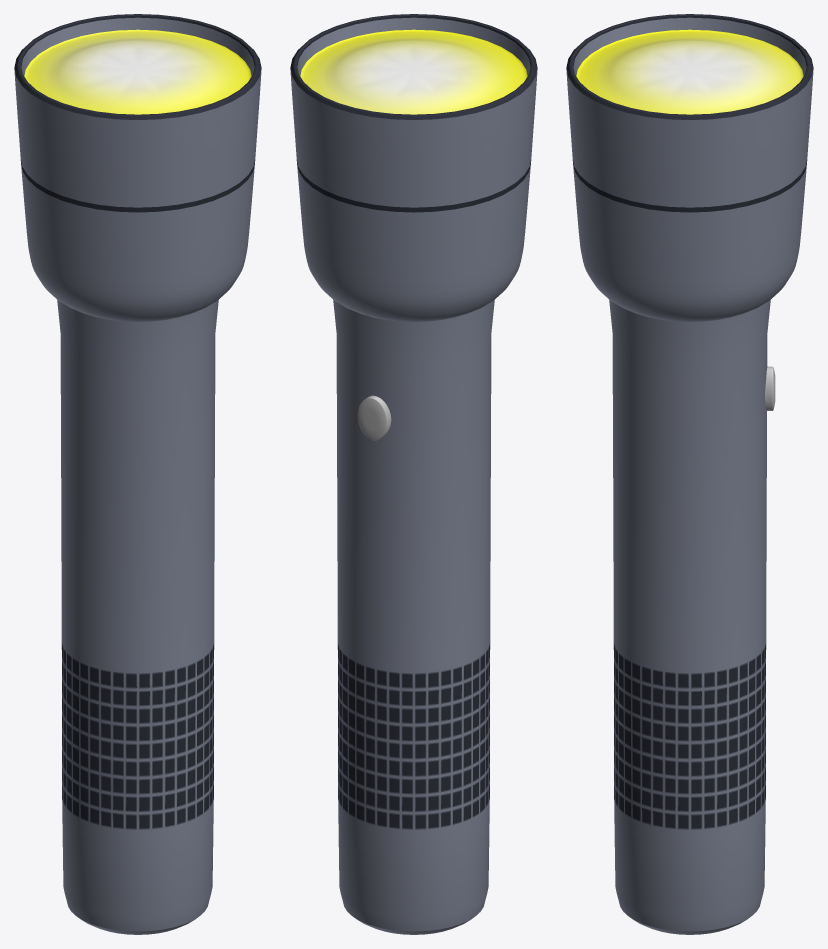
The model's file is Sdt.gltf.
3 renders of one model, left to right at view 1: azimuth 30°, elevation 25°; view 2: azimuth 150°, elevation 25°; view 3: azimuth 270°, elevation 25°, orthographic.
Visible parts, largest first — view 1: Cylinder005; view 2: Cylinder005; view 3: Cylinder005.
Boxes of the visible parts, x1=… form: Cylinder005: x1=14, y1=14, x2=261, y2=934; Cylinder005: x1=290, y1=14, x2=537, y2=934; Cylinder005: x1=566, y1=14, x2=813, y2=934.
Bounding box in the file's own units: 17.78 × 67.9 × 17.78.
